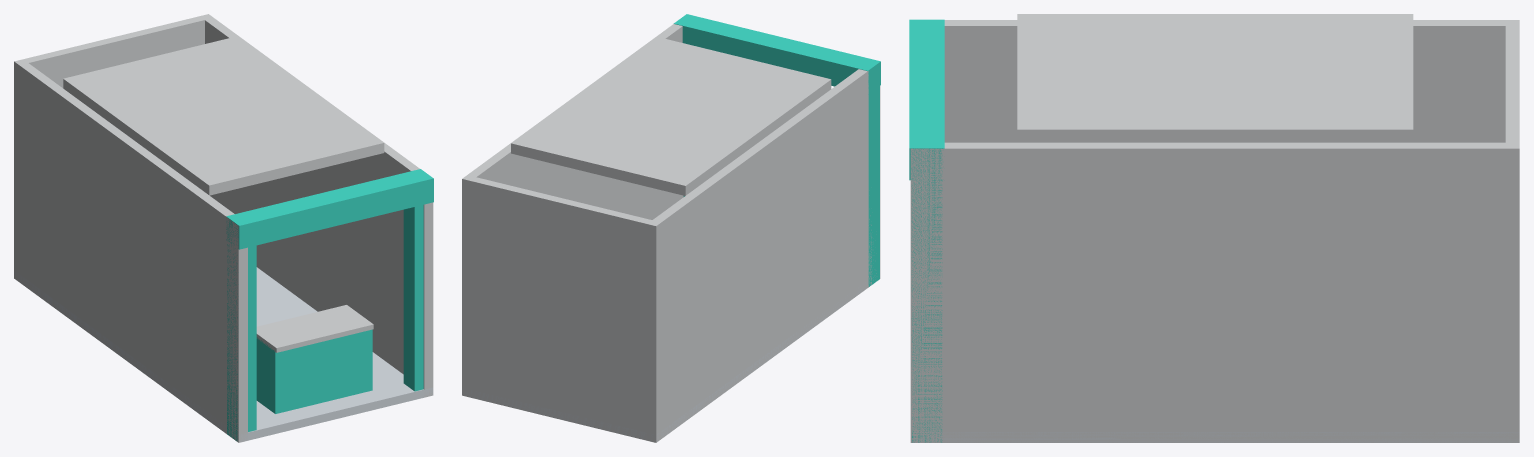
3 renders of one model, left to right at view 1: azimuth 30°, elevation 25°; view 2: azimuth 150°, elevation 25°; view 3: azimuth 270°, elevation 25°, orthographic. The views are drawn at different scales.
Parts seen in each view (by area): view 1: Exhibition Booth Concept; view 2: Exhibition Booth Concept; view 3: Exhibition Booth Concept.
Boxes of the visible parts, left/top/right/bottom form: Exhibition Booth Concept: left=14, top=14, right=433, bottom=442; Exhibition Booth Concept: left=462, top=14, right=880, bottom=442; Exhibition Booth Concept: left=909, top=14, right=1519, bottom=442.
Bounding box in the file's own units: 3 × 3.34 × 6.02.
